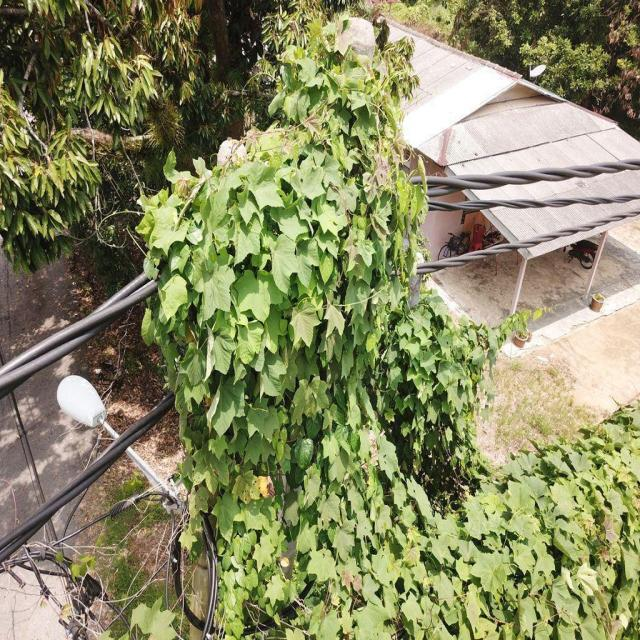critical vegetation: (131, 14, 478, 608)
